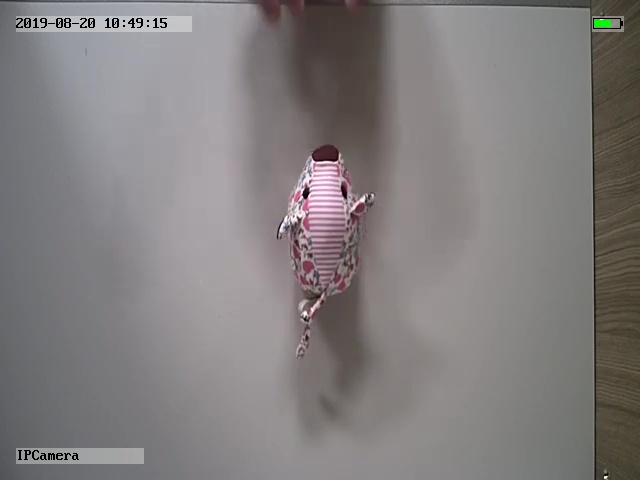pig: (277, 144, 378, 359)
